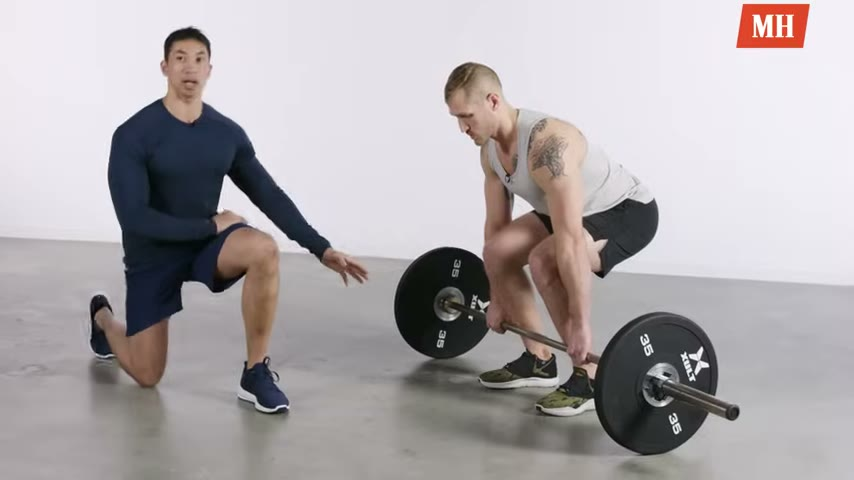barbell_plate_side: (386, 247, 479, 442), (640, 303, 743, 464)
